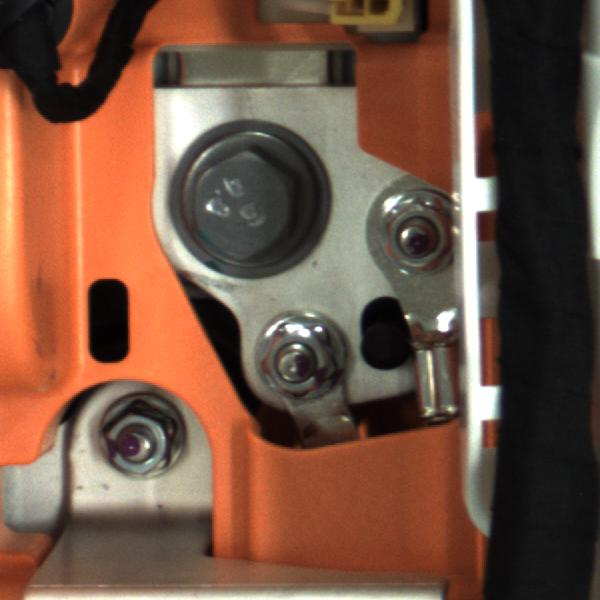nut_b: (169, 116, 334, 286)
screw_s: (250, 311, 362, 410), (89, 396, 196, 489), (375, 190, 469, 278)
